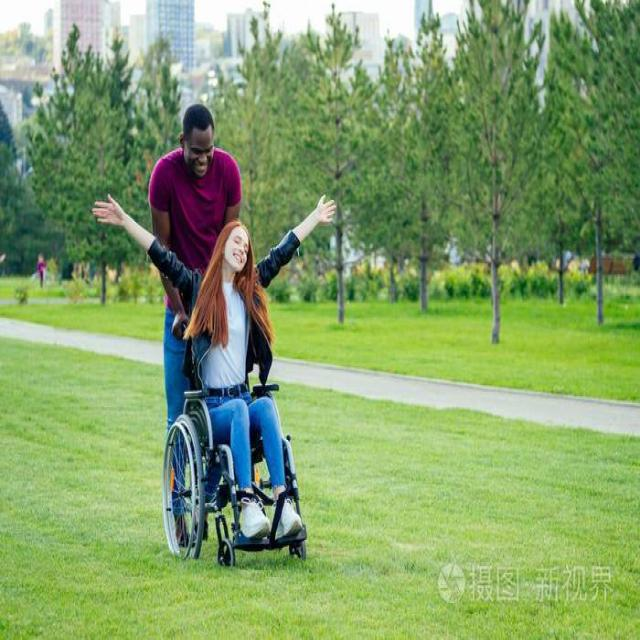wheelchairs: (157, 376, 310, 564)
